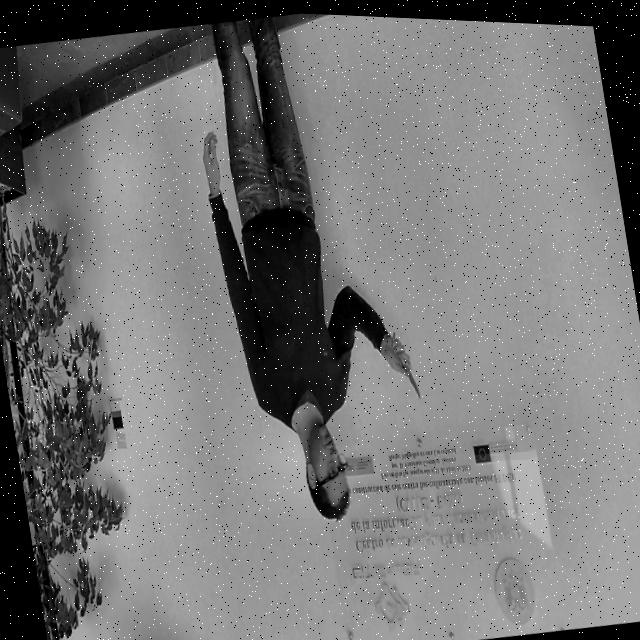knife: (404, 360, 424, 395)
